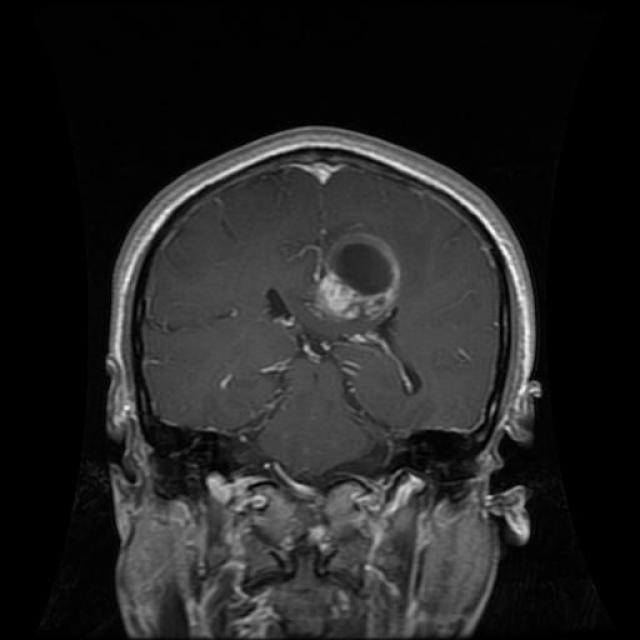glioma: (317, 231, 405, 309)
